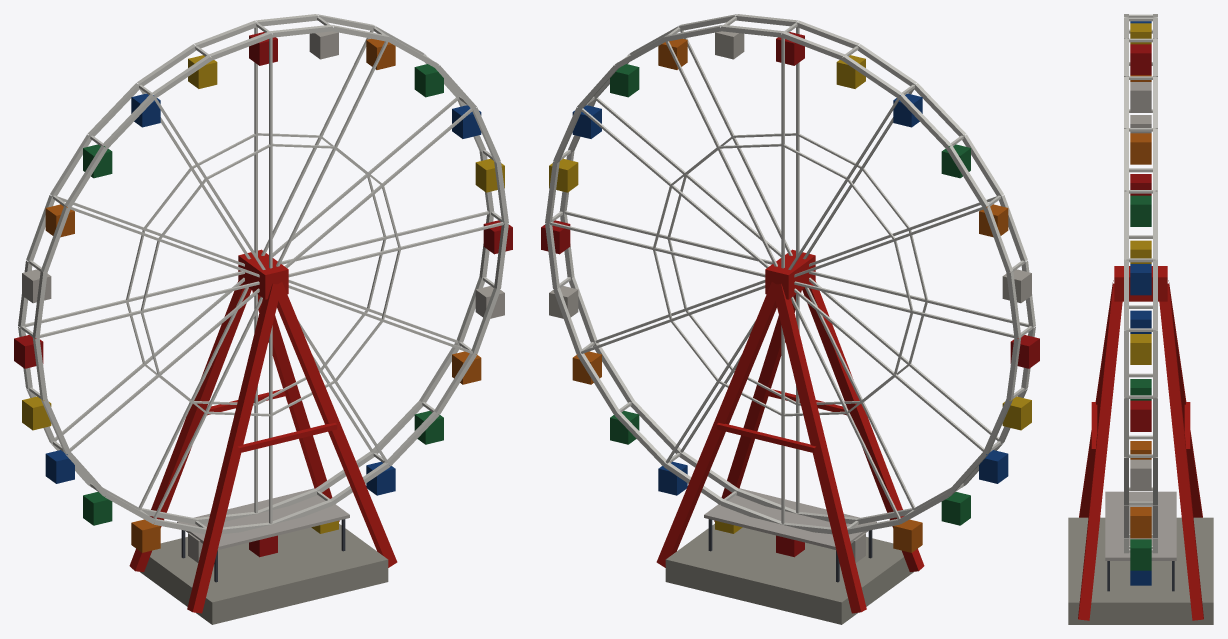
File: ferris_wheel.glb
3 renders of one model, left to right at view 1: azimuth 30°, elevation 25°; view 2: azimuth 150°, elevation 25°; view 3: azimuth 270°, elevation 25°, orthographic.
Parts seen in each view (by area): view 1: chunk_0_0; view 2: chunk_0_0; view 3: chunk_0_0.
Part boxes in pixels (x1=…): chunk_0_0: x1=14, y1=14, x2=512, y2=624; chunk_0_0: x1=541, y1=14, x2=1039, y2=624; chunk_0_0: x1=1068, y1=14, x2=1213, y2=624.
Size of the model in its own units: 49.9 by 53.72 by 13.
